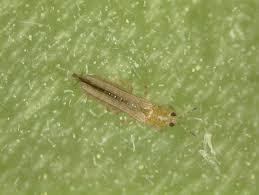Thrips: (69, 64, 187, 134)
